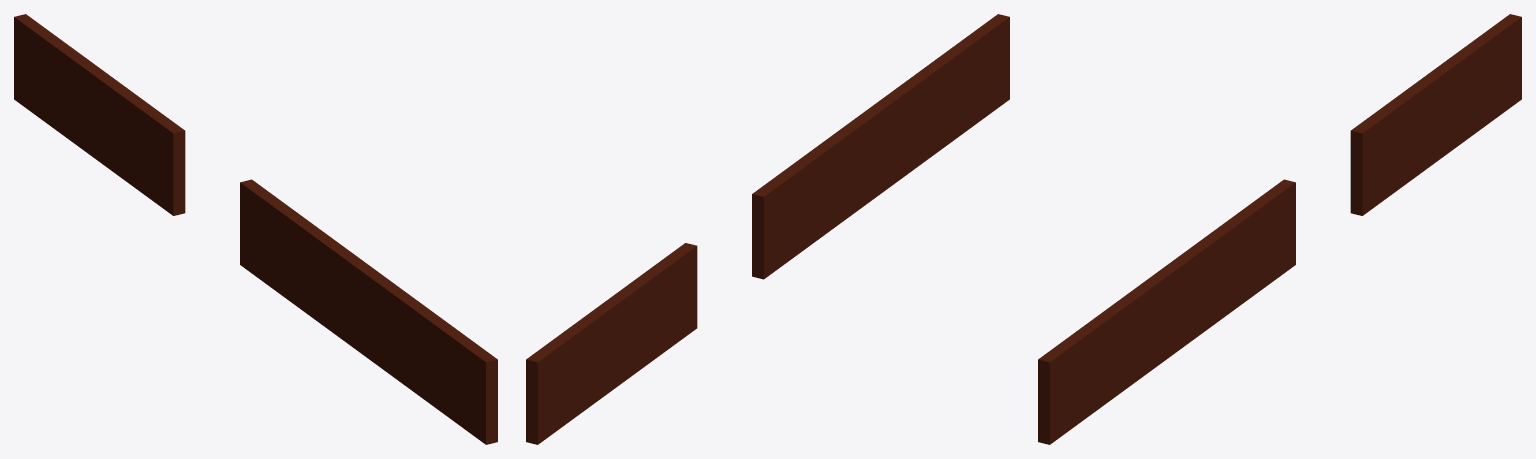
The model's file is entry_wall.obj.
3 views of the same model, side by side, from view 1: azimuth 30°, elevation 25°; view 2: azimuth 150°, elevation 25°; view 3: azimuth 330°, elevation 25° (orthographic).
Visible parts, largest first — view 1: Box011; view 2: Box011; view 3: Box011.
Boxes of the visible parts, <box> form: Box011: <box>14,14,497,444</box>; Box011: <box>526,14,1009,444</box>; Box011: <box>1038,14,1521,444</box>.
Bounding box in the file's own units: 11.81 × 78.74 × 816.
